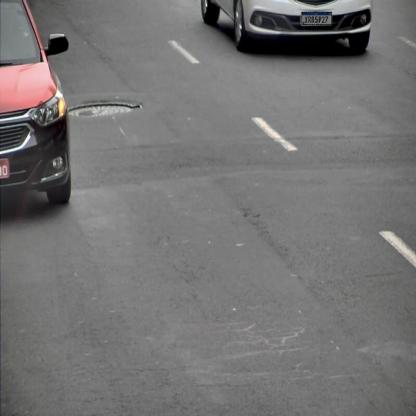PlacaM: (302, 12, 332, 25)
